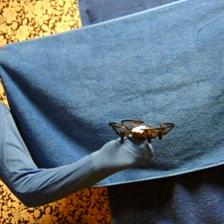drone: (108, 118, 176, 144)
